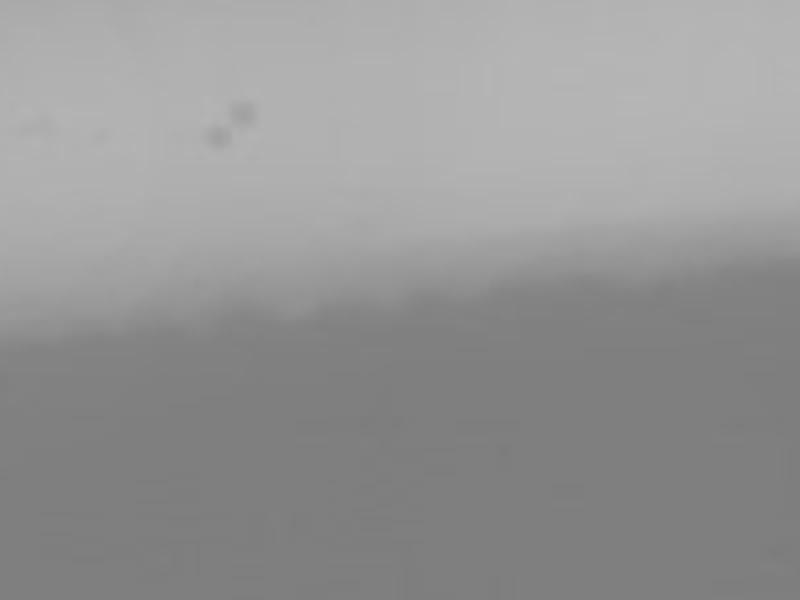defect: (227, 100, 257, 125), (203, 124, 230, 151)
